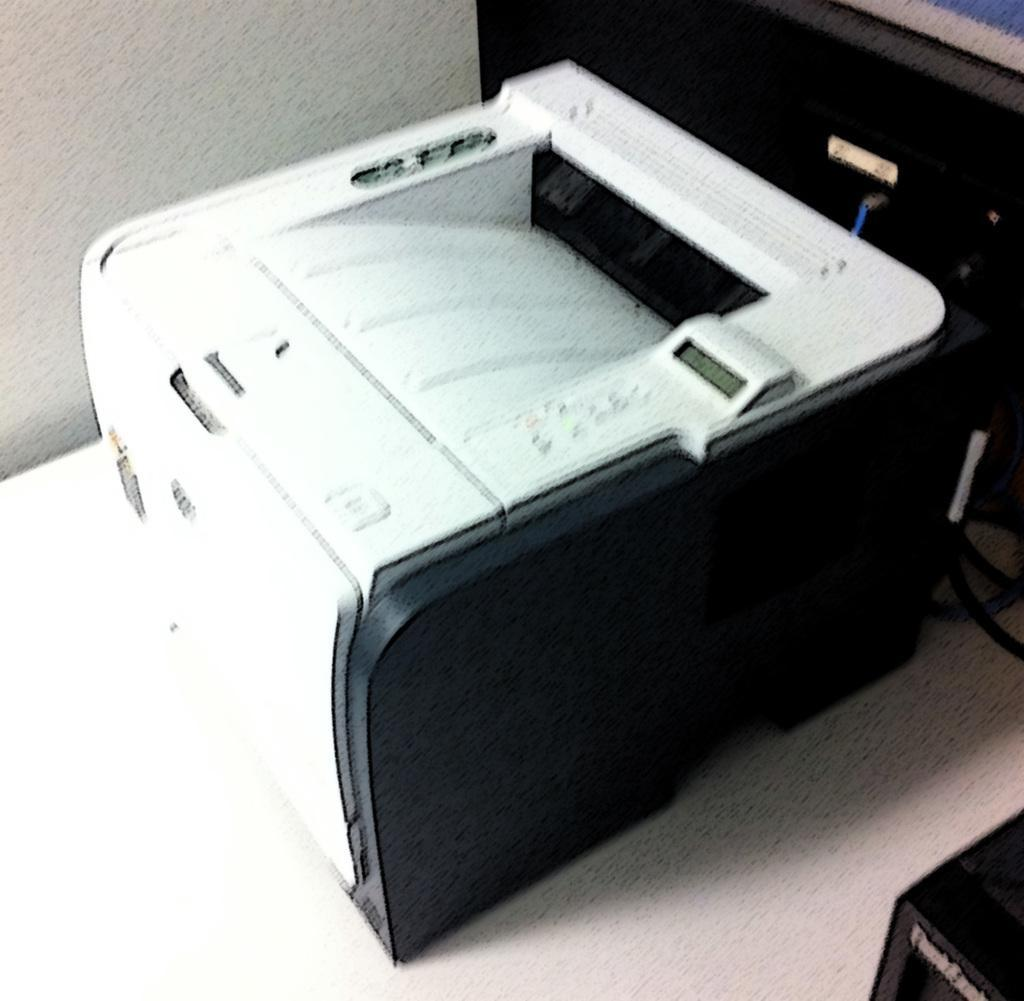Printer: (76, 57, 954, 964)
